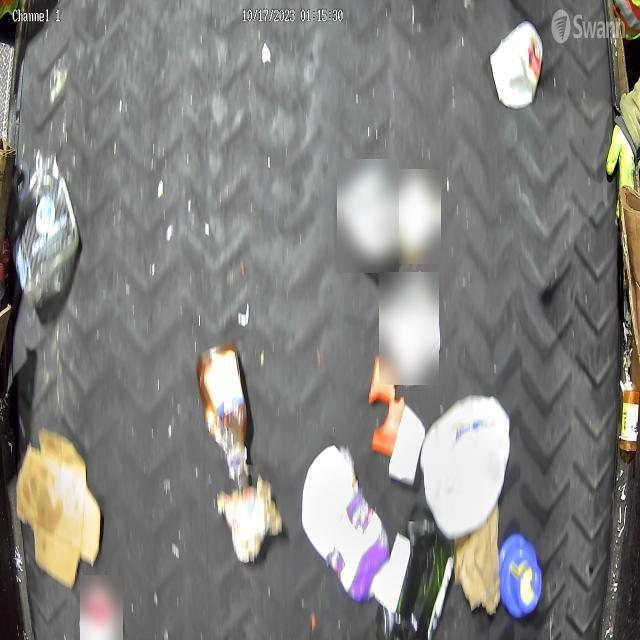milk_jug: (420, 394, 511, 538)
non_white_jug: (492, 20, 544, 109)
